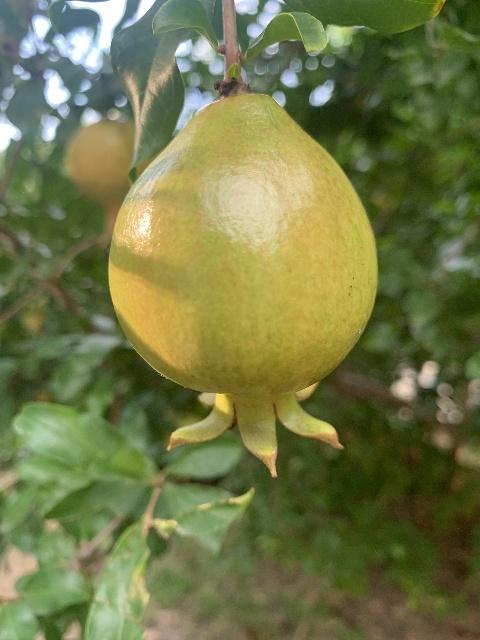mid-growth: (108, 93, 378, 477), (67, 120, 135, 250)
